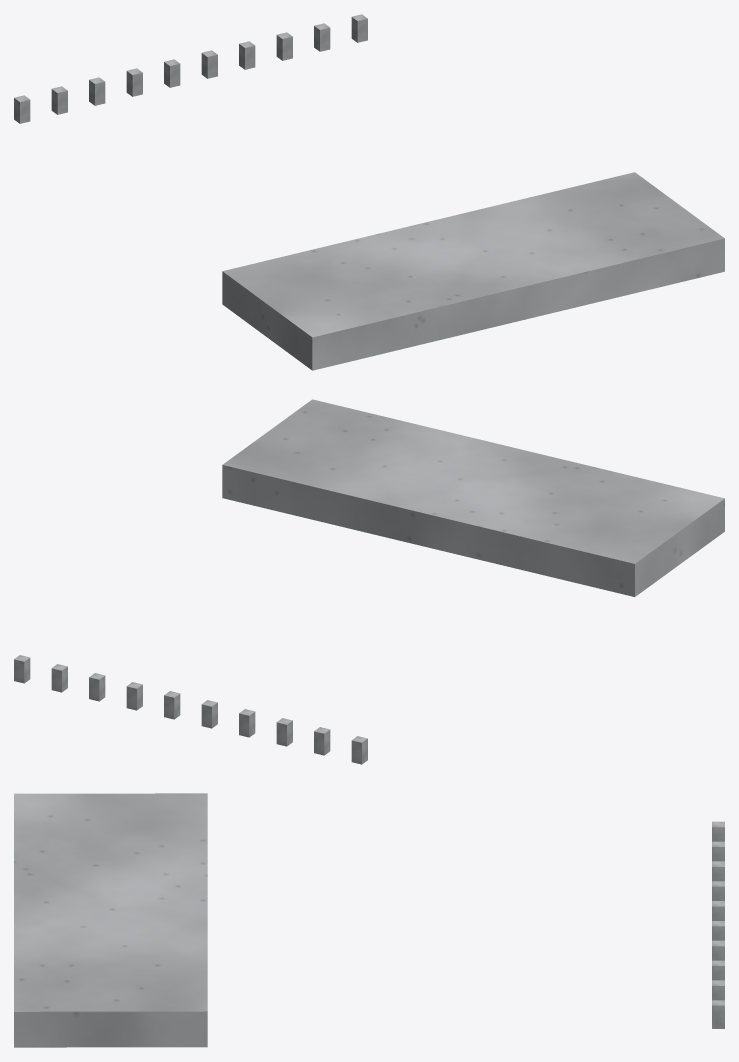
The model's file is qingnian-z2-upstream.glb.
The picture shows the model from 3 angles, top to bottom: view 1: azimuth 30°, elevation 25°; view 2: azimuth 150°, elevation 25°; view 3: azimuth 270°, elevation 25°; orthographic projection. The views are drawn at different scales.
Visible parts, largest first — view 1: QIN_WAY_apron_up_01; view 2: QIN_WAY_apron_up_01; view 3: QIN_WAY_apron_up_01.
Boxes of the visible parts, x1=… form: QIN_WAY_apron_up_01: x1=222, y1=172, x2=724, y2=370; QIN_WAY_apron_up_01: x1=222, y1=399, x2=724, y2=596; QIN_WAY_apron_up_01: x1=14, y1=793, x2=207, y2=1047.
Bounding box in the file's own units: 238 × 19.4 × 330.
2 materials, 2 textured.
